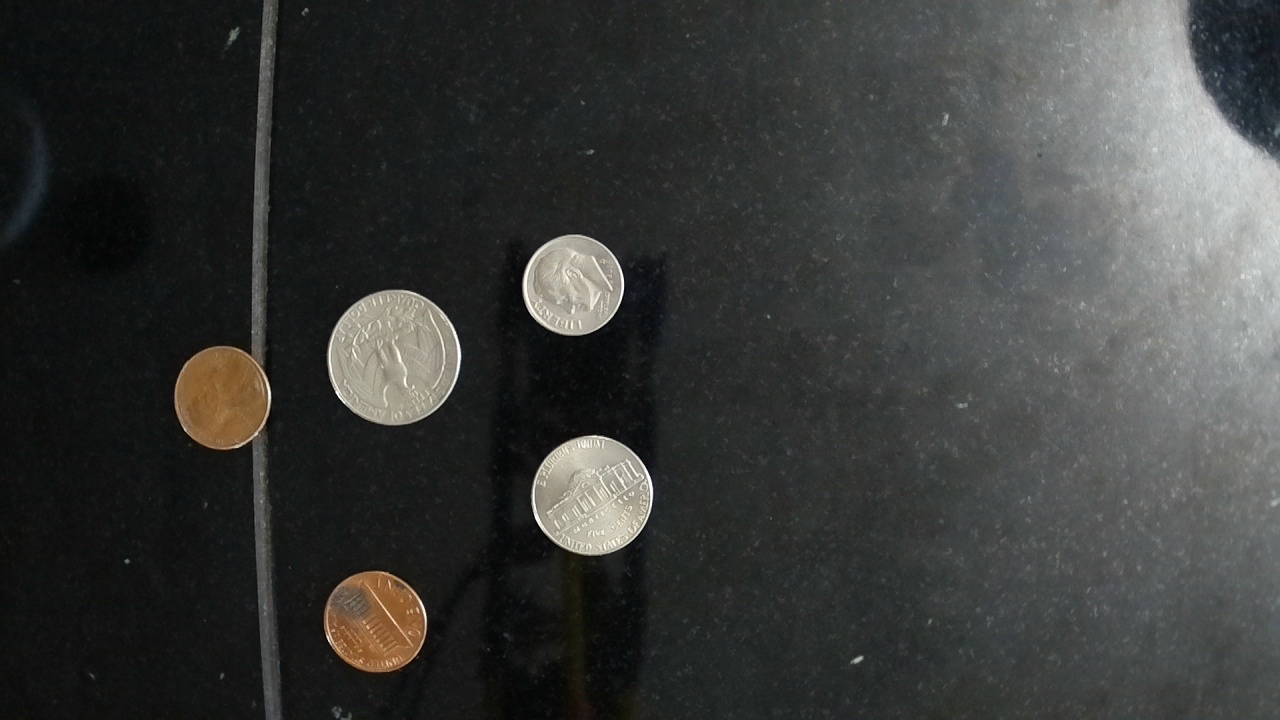dime: (518, 232, 628, 340)
nickel: (526, 430, 656, 562)
penny: (321, 566, 431, 676), (171, 342, 273, 452)
quarter: (324, 285, 462, 429)
